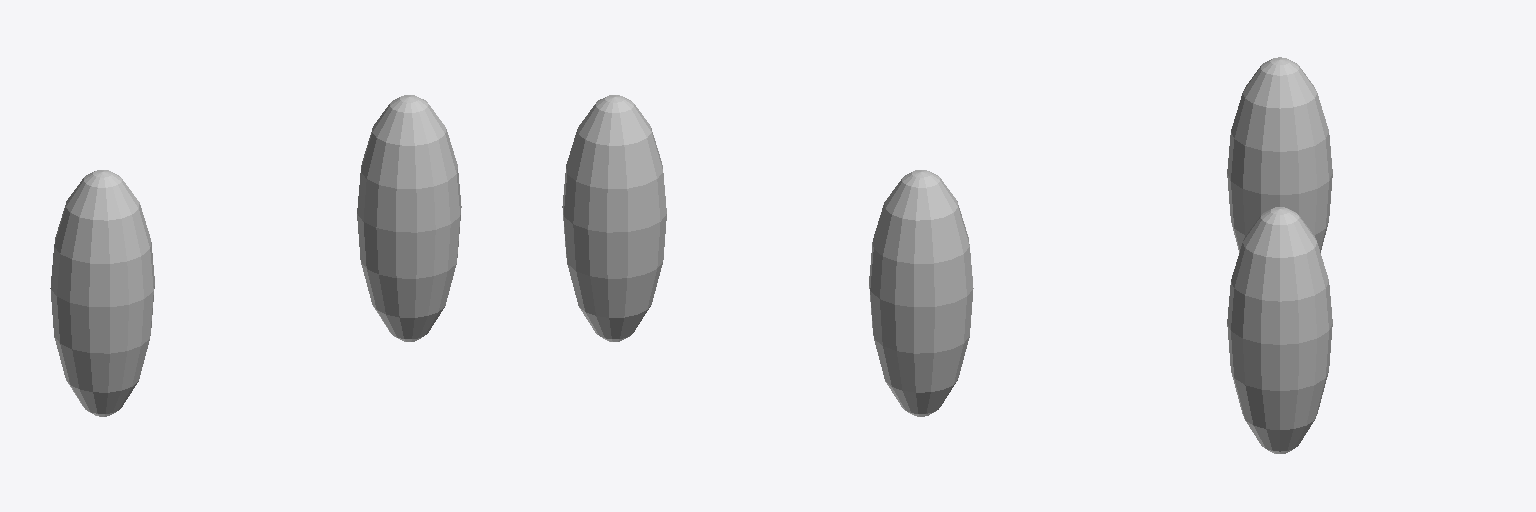
The model's file is eyes.obj.
The picture shows the model from 3 angles: view 1: azimuth 30°, elevation 25°; view 2: azimuth 150°, elevation 25°; view 3: azimuth 270°, elevation 25°; orthographic projection.
Parts seen in each view (by area): view 1: object_1, object_2; view 2: object_1, object_2; view 3: object_1, object_2.
Boxes of the visible parts, <box> form: object_1: <box>357,95,461,341</box>; object_2: <box>50,170,154,416</box>; object_1: <box>562,95,666,341</box>; object_2: <box>869,170,973,416</box>; object_1: <box>1227,207,1332,453</box>; object_2: <box>1227,57,1332,252</box>.
Bounding box in the file's own units: 6.01 × 3.51 × 1.38.